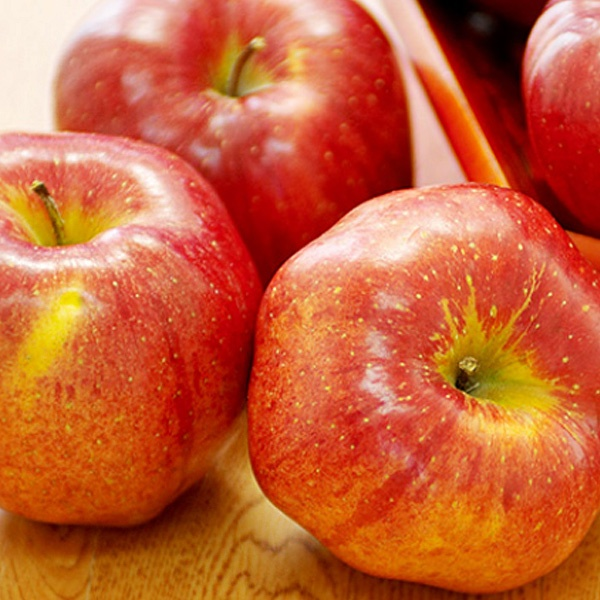apple: (236, 178, 600, 597), (1, 122, 269, 533), (51, 1, 423, 296), (522, 3, 600, 224)
